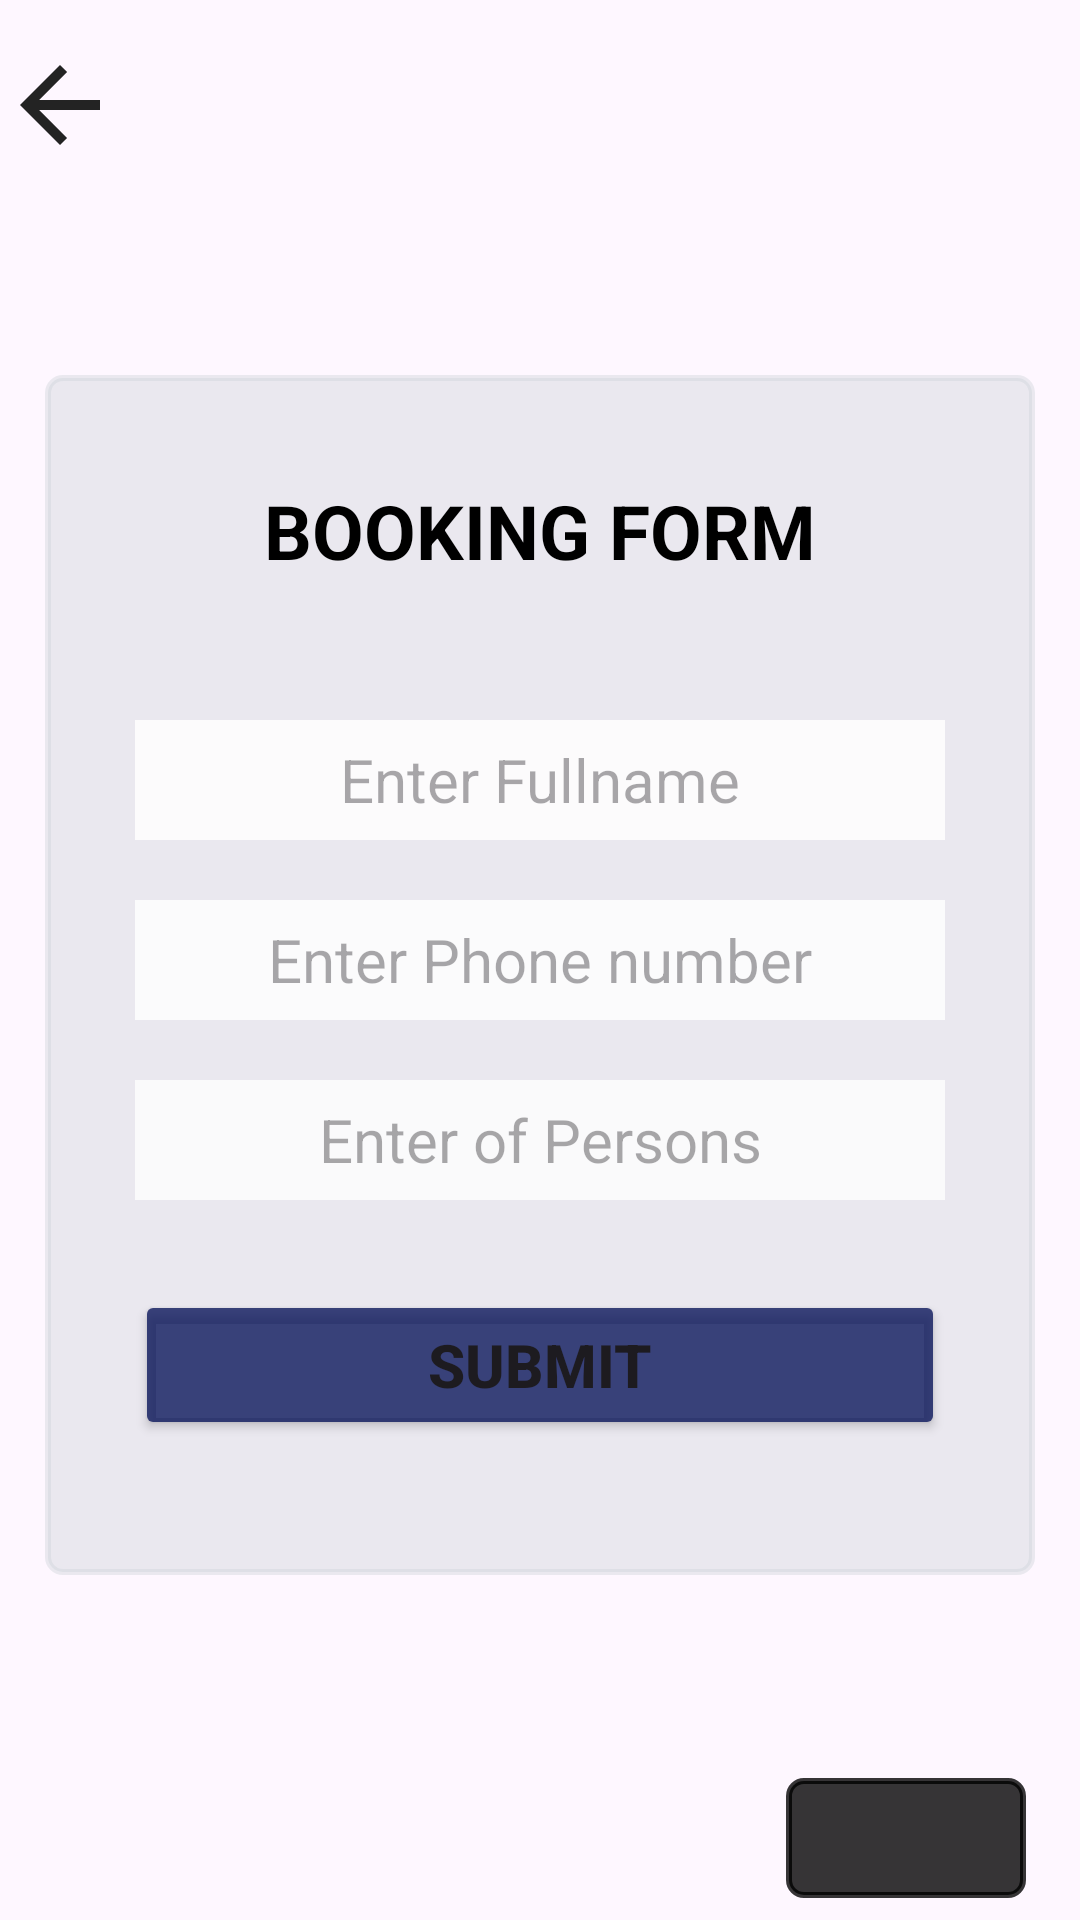

Where to tap for icons on this 1080 × 1920 app screen, as [x,y]:
arrow back: [60,105]
